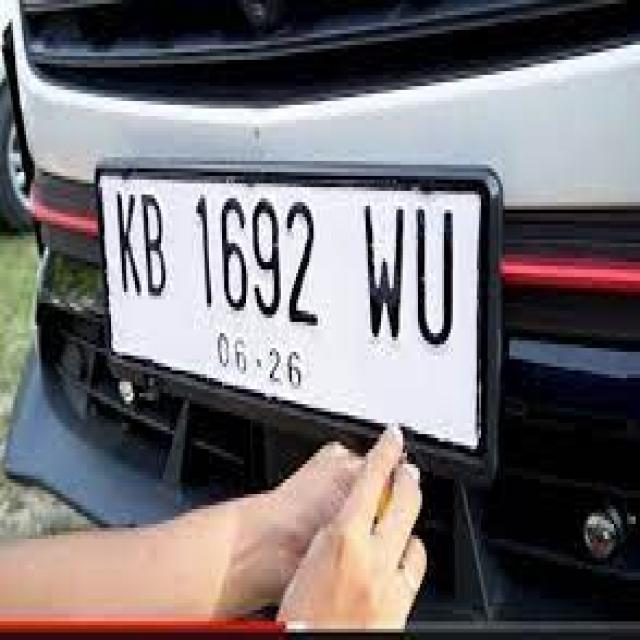license-plat: (80, 136, 526, 494)
